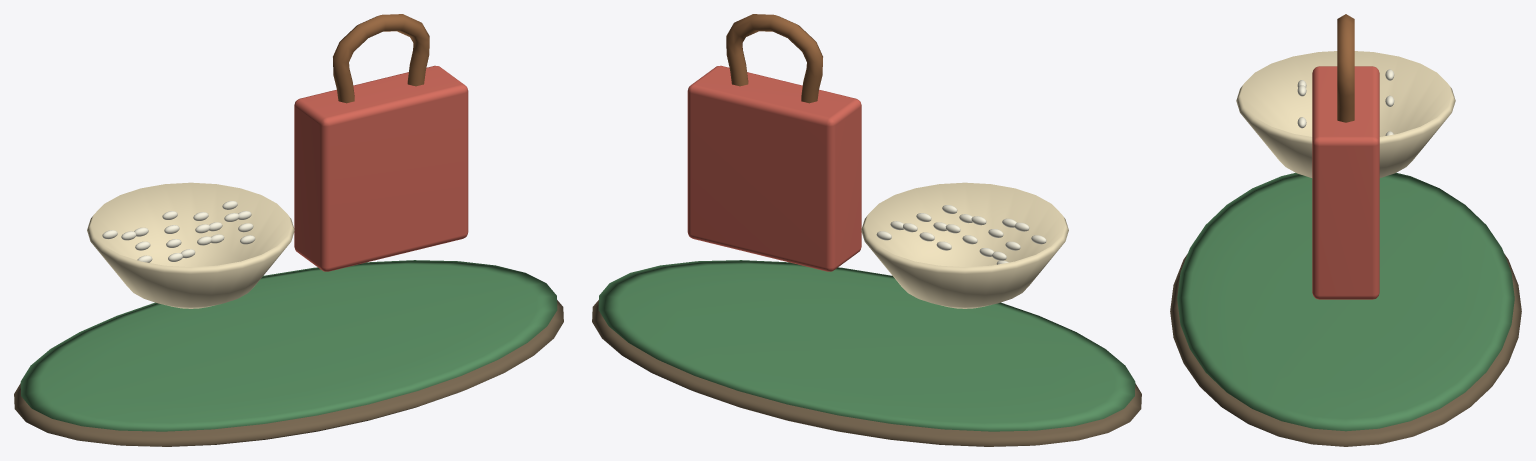
Rendered from full-package.glb.
3 views of the same model, side by side, from view 1: azimuth 30°, elevation 25°; view 2: azimuth 150°, elevation 25°; view 3: azimuth 270°, elevation 25° (orthographic). The views are drawn at different scales.
Parts seen in each view (by area): view 1: full-package_surface_01, full-package_surface_03, full-package_surface_02, full-package_surface_00, full-package_surface_04, full-package_surface_05; view 2: full-package_surface_01, full-package_surface_03, full-package_surface_02, full-package_surface_00, full-package_surface_04, full-package_surface_05; view 3: full-package_surface_01, full-package_surface_03, full-package_surface_02, full-package_surface_00, full-package_surface_04, full-package_surface_05.
Part boxes in pixels (x1=…): full-package_surface_01: x1=20, y1=260, x2=557, y2=431; full-package_surface_03: x1=294, y1=65, x2=468, y2=271; full-package_surface_02: x1=87, y1=182, x2=294, y2=308; full-package_surface_00: x1=14, y1=300, x2=563, y2=446; full-package_surface_04: x1=333, y1=14, x2=429, y2=103; full-package_surface_05: x1=102, y1=201, x2=255, y2=262; full-package_surface_01: x1=598, y1=260, x2=1135, y2=431; full-package_surface_03: x1=687, y1=65, x2=861, y2=271; full-package_surface_02: x1=861, y1=182, x2=1068, y2=308; full-package_surface_00: x1=592, y1=300, x2=1141, y2=446; full-package_surface_04: x1=726, y1=14, x2=822, y2=103; full-package_surface_05: x1=876, y1=205, x2=1046, y2=264; full-package_surface_01: x1=1177, y1=172, x2=1514, y2=431; full-package_surface_03: x1=1312, y1=66, x2=1379, y2=299; full-package_surface_02: x1=1236, y1=51, x2=1455, y2=177; full-package_surface_00: x1=1170, y1=253, x2=1521, y2=446; full-package_surface_04: x1=1337, y1=14, x2=1354, y2=122; full-package_surface_05: x1=1297, y1=69, x2=1394, y2=135.
Size of the model in its own units: 4.56 by 2.78 by 2.5.
